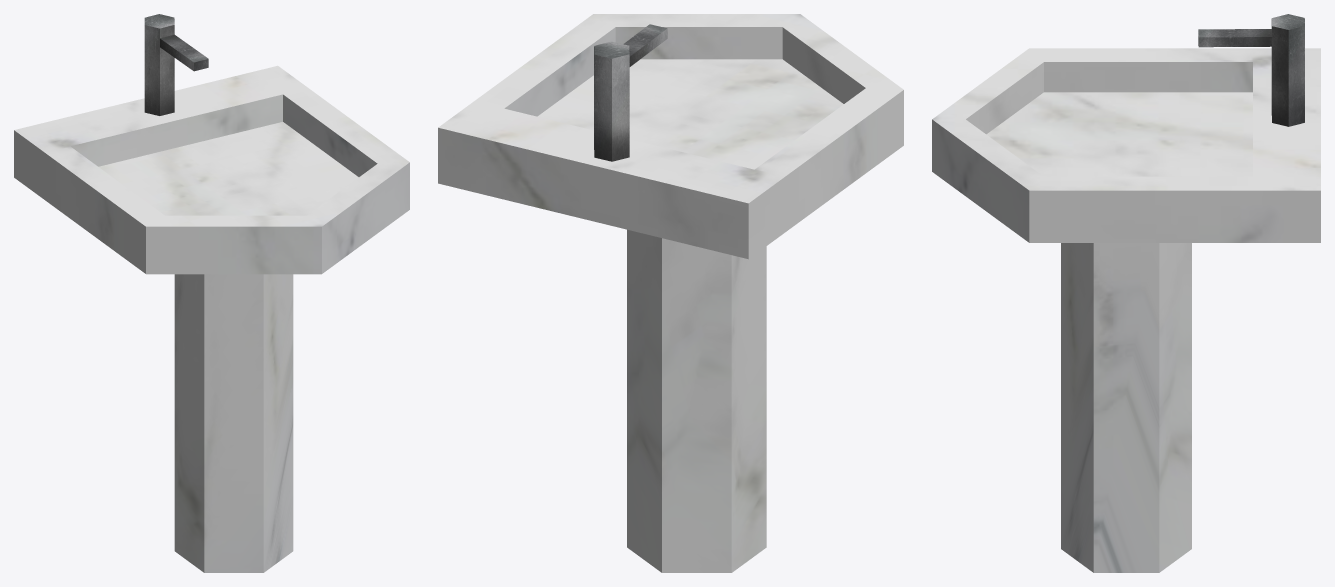
The model's file is Sink.fbx.
3 renders of one model, left to right at view 1: azimuth 30°, elevation 25°; view 2: azimuth 150°, elevation 25°; view 3: azimuth 270°, elevation 25°, orthographic. The views are drawn at different scales.
Visible parts, largest first — view 1: Sink; view 2: Sink; view 3: Sink.
Boxes of the visible parts, x1,y1,x2,y2 form: Sink: (14, 14, 409, 572); Sink: (438, 14, 903, 572); Sink: (932, 14, 1320, 572).
Size of the model in its own units: 93.34 by 161 by 108.
